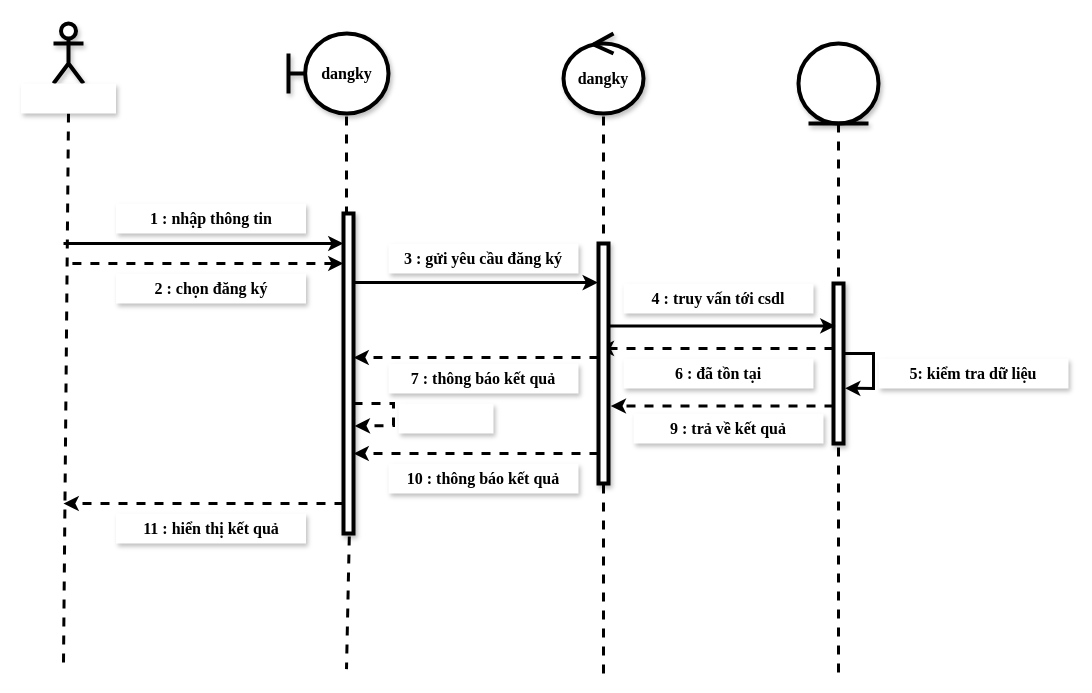
Image size: 1092x693. Some labels were removed from this diagram. The shapes that lost their labels are listed below. From the top down, each one's centre as x and y in pixels, then its label:
At point 69,54: "Actor".
At point 69,99: "khachhang".
At point 839,84: "csdl".
At point 446,419: "8: đăng ký lại".
